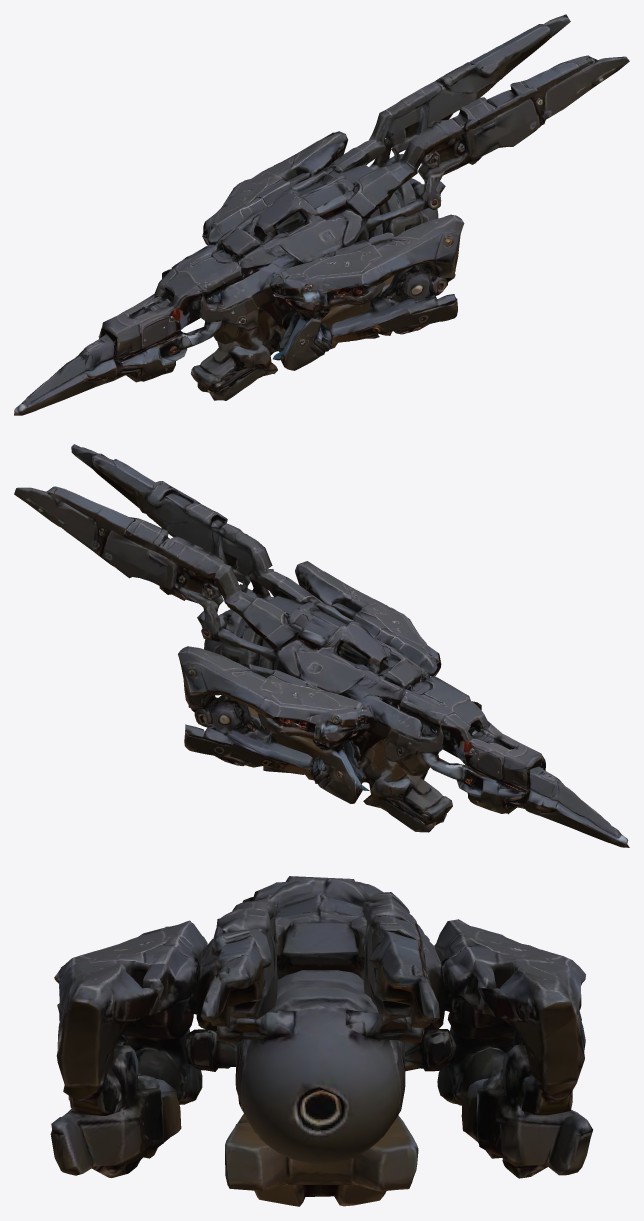
The model's file is enemy_voidling.glb.
The picture shows the model from 3 angles, top to bottom: view 1: azimuth 30°, elevation 25°; view 2: azimuth 150°, elevation 25°; view 3: azimuth 270°, elevation 25°; orthographic projection. The views are drawn at different scales.
Visible parts, largest first — view 1: tripo_node_6ca56074-9217-45a2-8854-449c5a478d3f; view 2: tripo_node_6ca56074-9217-45a2-8854-449c5a478d3f; view 3: tripo_node_6ca56074-9217-45a2-8854-449c5a478d3f.
Part boxes in pixels (<box>): tripo_node_6ca56074-9217-45a2-8854-449c5a478d3f: <box>14,14,629,415</box>; tripo_node_6ca56074-9217-45a2-8854-449c5a478d3f: <box>14,444,629,847</box>; tripo_node_6ca56074-9217-45a2-8854-449c5a478d3f: <box>50,876,592,1206</box>.
Bounding box in the file's own units: 0.9796 × 0.4354 × 0.3928.
Materials: 1 (1 with a texture image).
